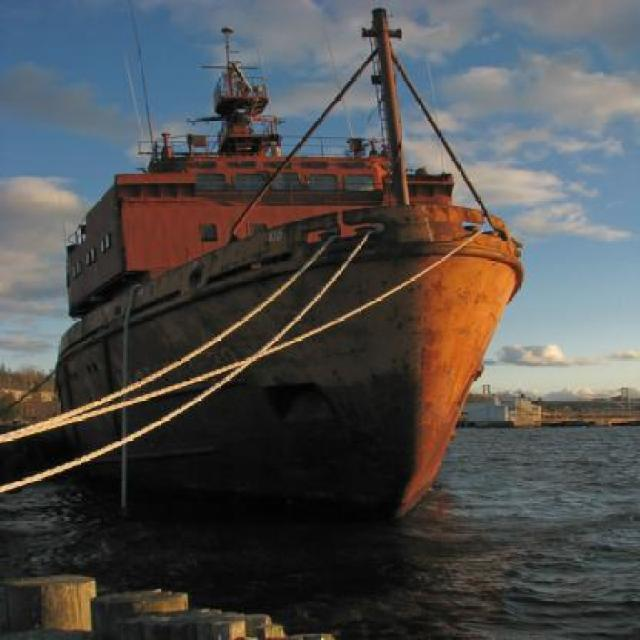corrosion: (50, 6, 528, 534)
